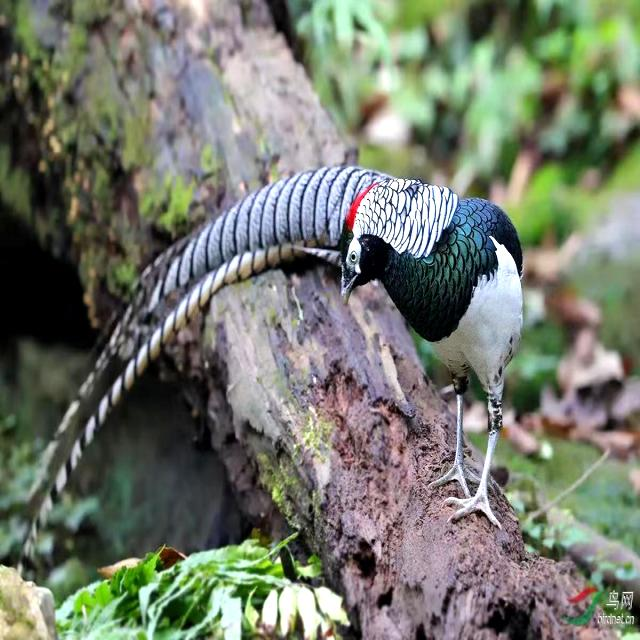Chrysolophus amherstiae: (23, 166, 397, 554)
